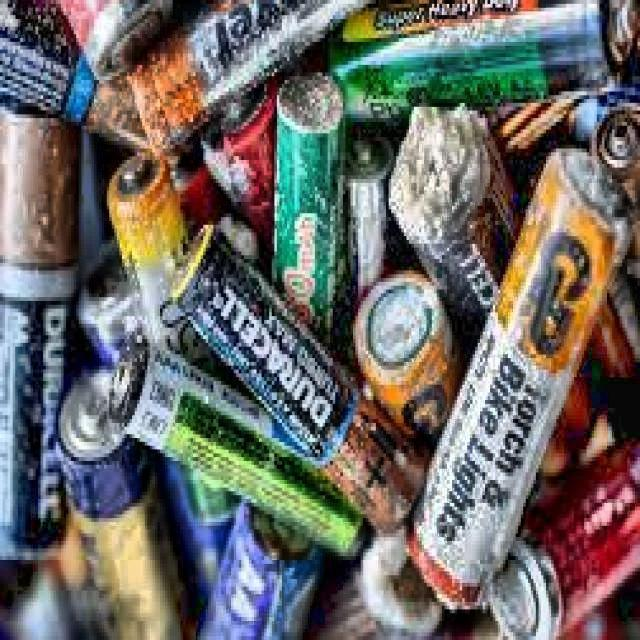battery: (406, 147, 630, 611), (178, 236, 430, 535), (110, 330, 368, 563)
